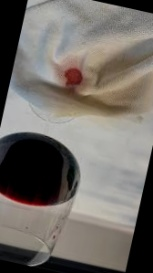wine: (59, 59, 89, 94)
